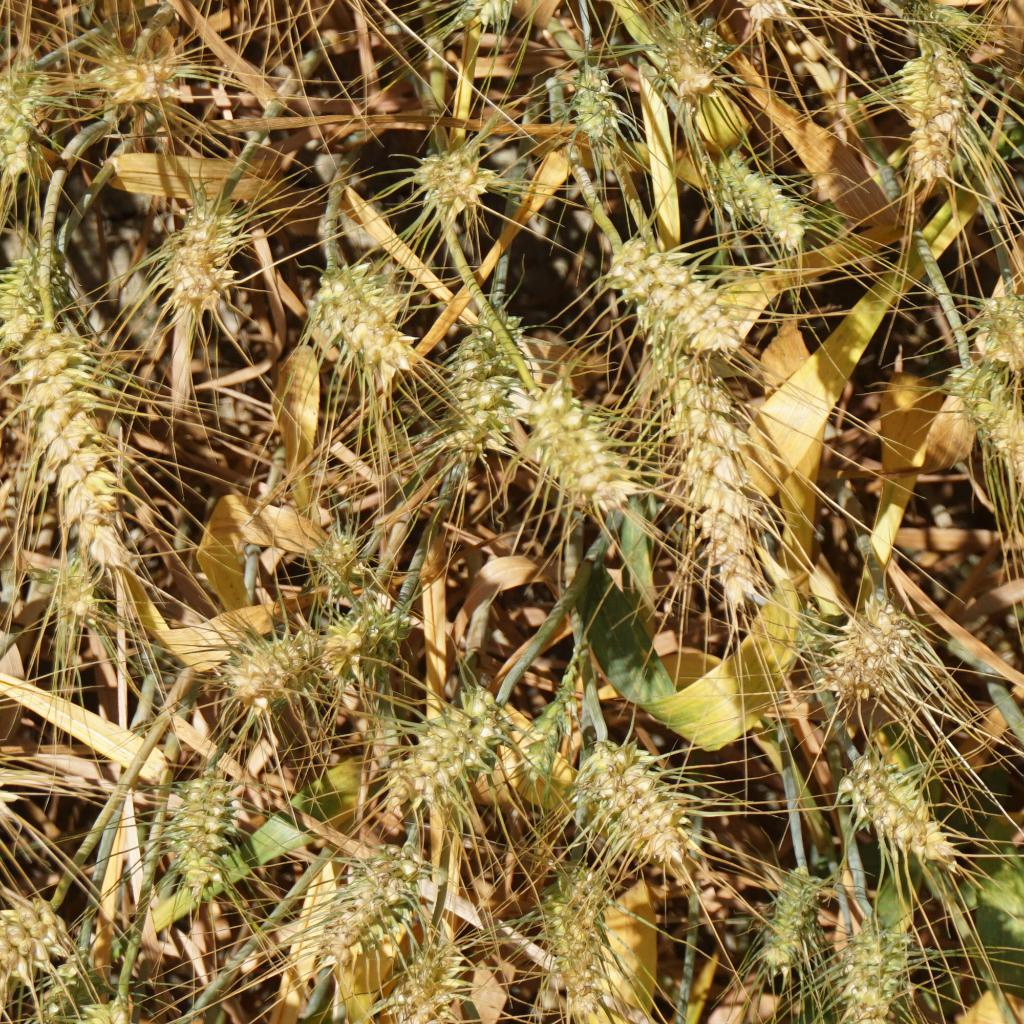0-0: (9, 323, 137, 585), (653, 368, 756, 602), (591, 235, 762, 363), (570, 721, 709, 873), (296, 250, 442, 384), (517, 363, 638, 517), (845, 732, 971, 866), (680, 152, 828, 263), (150, 175, 256, 320), (152, 775, 252, 907), (385, 694, 486, 815), (0, 881, 76, 1024), (822, 597, 914, 708), (90, 39, 182, 134), (0, 247, 80, 356), (445, 315, 508, 453), (27, 550, 126, 637), (534, 878, 607, 992), (955, 366, 1024, 486), (904, 48, 970, 170), (337, 849, 413, 947), (754, 867, 817, 978), (650, 0, 723, 93), (313, 601, 401, 677), (0, 41, 45, 181), (0, 672, 38, 832), (406, 147, 492, 215), (226, 633, 305, 706), (838, 925, 897, 1021), (570, 50, 624, 144), (398, 941, 458, 1024), (900, 0, 990, 51), (453, 0, 587, 34), (969, 286, 1024, 368), (523, 675, 566, 779), (309, 530, 361, 590), (44, 954, 86, 1022)
